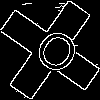O: (25, 25, 84, 86)
